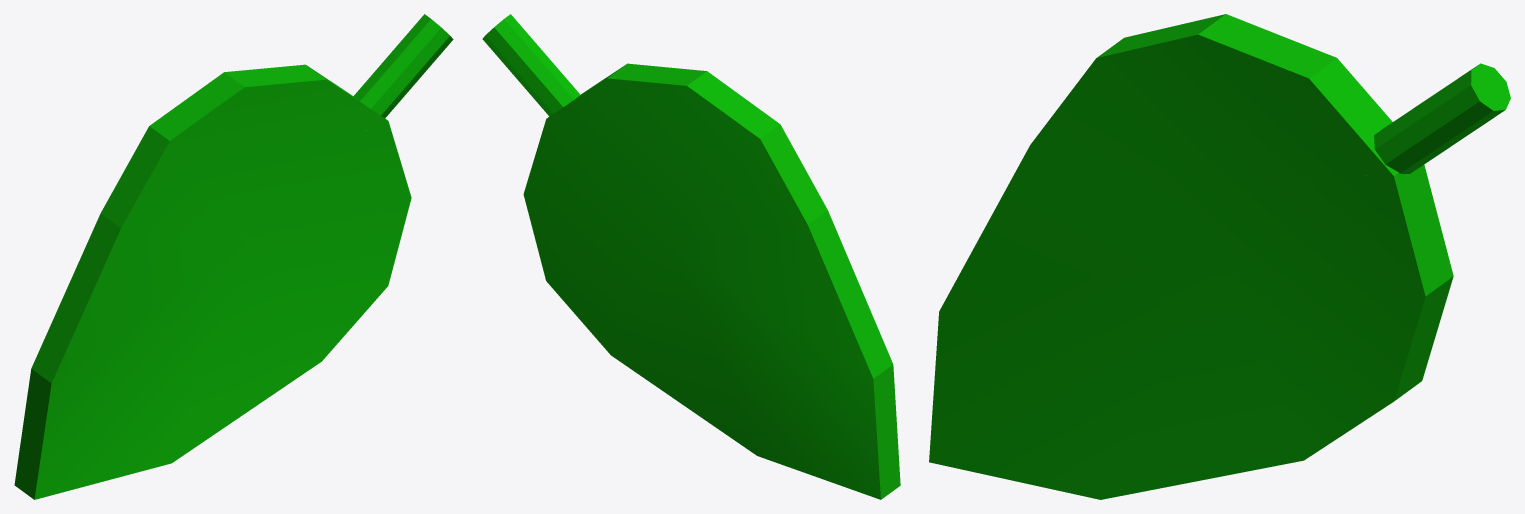
File: leafEXP.fbx
3 renders of one model, left to right at view 1: azimuth 30°, elevation 25°; view 2: azimuth 150°, elevation 25°; view 3: azimuth 330°, elevation 25°, orthographic. The views are drawn at different scales.
Parts seen in each view (by area): view 1: pCylinder3; view 2: pCylinder3; view 3: pCylinder3.
Part boxes in pixels (x1,y1,x2,y2): pCylinder3: [14, 14, 453, 499]; pCylinder3: [482, 14, 900, 499]; pCylinder3: [929, 14, 1510, 499].
Bounding box in the file's own units: 65.67 × 57.52 × 7.26.
